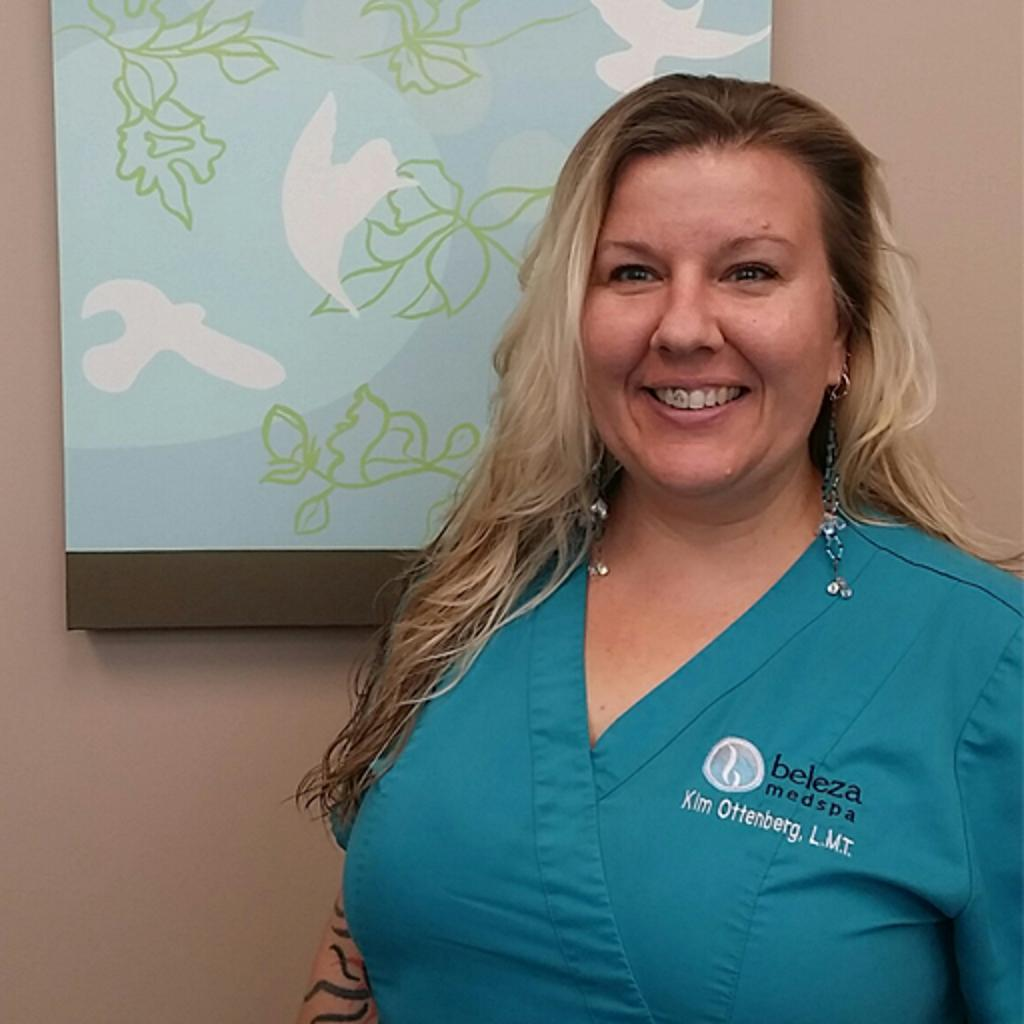face: (580, 162, 838, 494)
